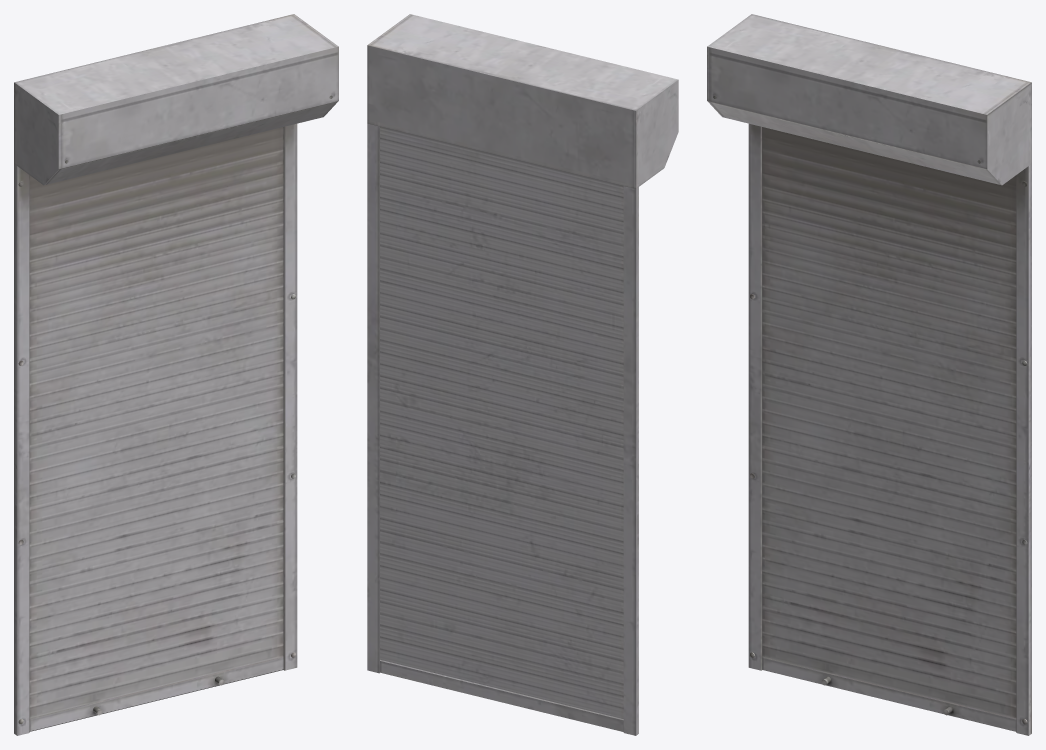
File: shutter.glb
3 renders of one model, left to right at view 1: azimuth 30°, elevation 25°; view 2: azimuth 150°, elevation 25°; view 3: azimuth 330°, elevation 25°, orthographic. The views are drawn at different scales.
Parts seen in each view (by area): view 1: shutter; view 2: shutter; view 3: shutter.
Part boxes in pixels (bbox=[...]): shutter: bbox=[14, 14, 338, 735]; shutter: bbox=[367, 14, 678, 735]; shutter: bbox=[707, 14, 1031, 735].
Bounding box in the file's own units: 1.08 × 2.4 × 0.3.
Materials: 1 (1 with a texture image).
